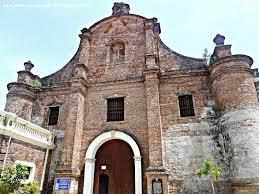Sta. Maria Church: (5, 1, 259, 193)
Unfinished Paint: (160, 113, 259, 179)
